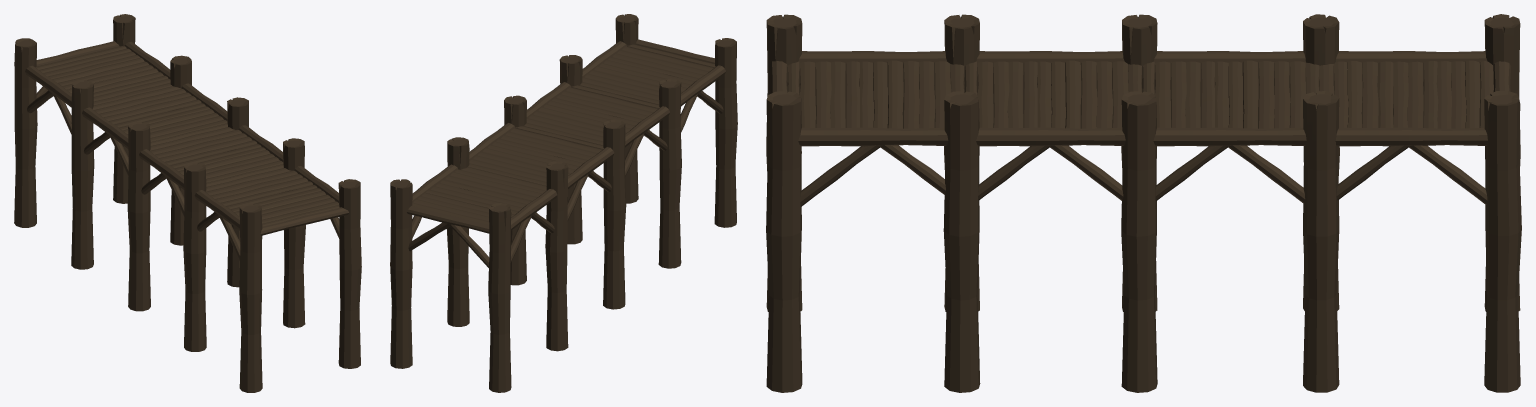
File: dock.fbx
3 views of the same model, side by side, from view 1: azimuth 30°, elevation 25°; view 2: azimuth 150°, elevation 25°; view 3: azimuth 270°, elevation 25° (orthographic). The views are drawn at different scales.
Visible parts, largest first — view 1: Corner_Piece56 (×2), Corner_Piece59 (×2), Corner_Piece21, Corner_Piece18, Corner_Piece19, Corner_Piece17, Corner_Piece20, Corner_Piece54 (×2), Corner_Piece22, Corner_Piece66 (×2), Corner_Piece53 (×2), Corner_Piece64 (×2) (+41 smaller); view 2: Corner_Piece56 (×2), Corner_Piece18, Corner_Piece17, Corner_Piece21, Corner_Piece19, Corner_Piece20, Corner_Piece59 (×2), Corner_Piece22, Corner_Piece54 (×2), Corner_Piece62 (×2), Corner_Piece61 (×2), Corner_Piece58 (×2) (+43 smaller); view 3: Corner_Piece59 (×2), Corner_Piece17, Corner_Piece20, Corner_Piece22, Corner_Piece58 (×2), Corner_Piece56 (×2), Corner_Piece54 (×2), Corner_Piece26, Corner_Piece25, Corner_Piece66 (×2), Corner_Piece60 (×2), Corner_Piece64 (×2) (+41 smaller).
Boxes of the visible parts, x1=… form: Corner_Piece56 (×2): x1=183, y1=162, x2=262, y2=392; Corner_Piece59 (×2): x1=283, y1=138, x2=361, y2=368; Corner_Piece21: x1=127, y1=121, x2=150, y2=311; Corner_Piece18: x1=14, y1=38, x2=37, y2=227; Corner_Piece19: x1=71, y1=80, x2=94, y2=269; Corner_Piece17: x1=113, y1=14, x2=135, y2=203; Corner_Piece20: x1=170, y1=55, x2=191, y2=245; Corner_Piece54 (×2): x1=139, y1=149, x2=239, y2=230; Corner_Piece22: x1=227, y1=97, x2=248, y2=287; Corner_Piece66 (×2): x1=159, y1=136, x2=307, y2=202; Corner_Piece53 (×2): x1=150, y1=130, x2=297, y2=195; Corner_Piece64 (×2): x1=165, y1=140, x2=312, y2=205; Corner_Piece56 (×2): x1=658, y1=38, x2=737, y2=268; Corner_Piece18: x1=488, y1=203, x2=511, y2=392; Corner_Piece17: x1=390, y1=179, x2=412, y2=368; Corner_Piece21: x1=603, y1=119, x2=626, y2=309; Corner_Piece19: x1=545, y1=161, x2=568, y2=351; Corner_Piece20: x1=446, y1=137, x2=469, y2=326; Corner_Piece59 (×2): x1=559, y1=14, x2=638, y2=244; Corner_Piece22: x1=504, y1=95, x2=526, y2=285; Corner_Piece54 (×2): x1=625, y1=65, x2=725, y2=147; Corner_Piece62 (×2): x1=566, y1=46, x2=713, y2=112; Corner_Piece61 (×2): x1=557, y1=53, x2=704, y2=119; Corner_Piece58 (×2): x1=526, y1=41, x2=626, y2=118; Corner_Piece59 (×2): x1=766, y1=91, x2=980, y2=392; Corner_Piece17: x1=1484, y1=91, x2=1521, y2=392; Corner_Piece20: x1=1303, y1=91, x2=1339, y2=392; Corner_Piece22: x1=1121, y1=91, x2=1157, y2=392; Corner_Piece58 (×2): x1=798, y1=127, x2=1125, y2=146; Corner_Piece56 (×2): x1=766, y1=14, x2=979, y2=311; Corner_Piece54 (×2): x1=798, y1=51, x2=1124, y2=62; Corner_Piece26: x1=1153, y1=127, x2=1306, y2=146; Corner_Piece25: x1=1335, y1=127, x2=1487, y2=146; Corner_Piece66 (×2): x1=902, y1=61, x2=1097, y2=128; Corner_Piece60 (×2): x1=919, y1=61, x2=1112, y2=128; Corner_Piece64 (×2): x1=887, y1=60, x2=1081, y2=128.
Size of the model in its own units: 32.62 by 46.96 by 112.
